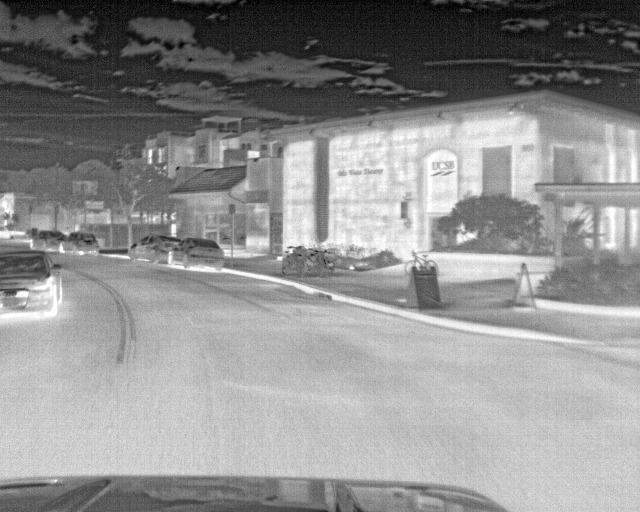bicycle: (403, 250, 439, 278), (280, 246, 308, 279)
car: (0, 250, 63, 319), (166, 236, 224, 271), (125, 233, 184, 265), (59, 232, 103, 259), (34, 228, 65, 250)
